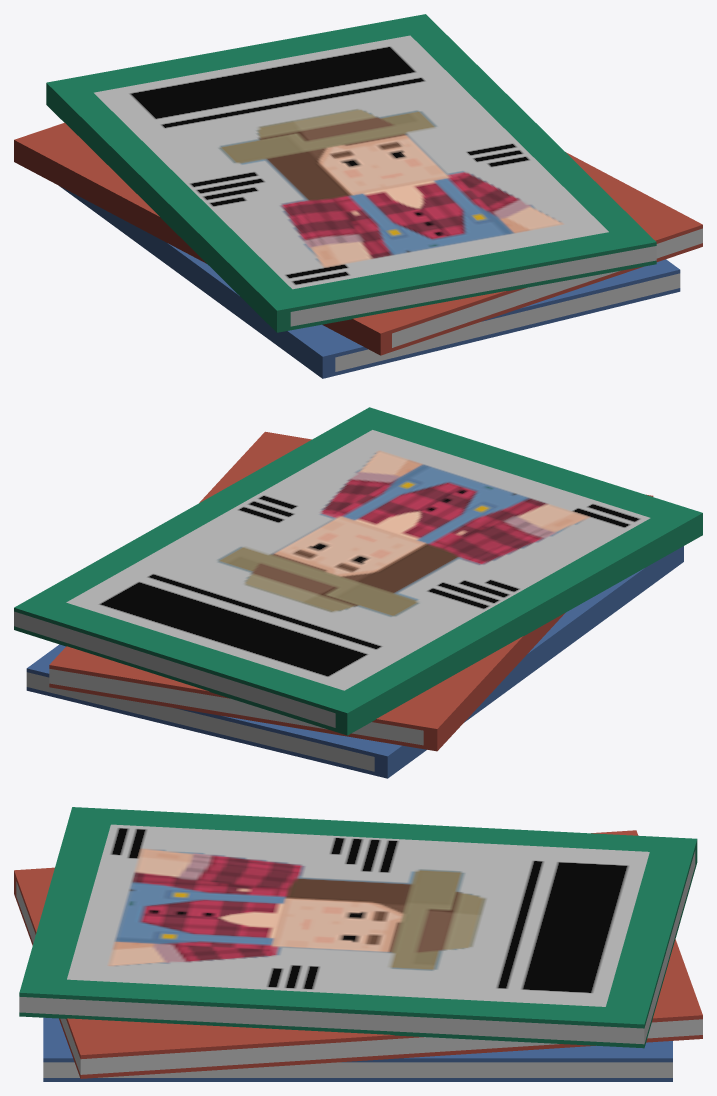
The model's file is SO_Magazines.fbx.
3 views of the same model, one above another, from view 1: azimuth 30°, elevation 25°; view 2: azimuth 150°, elevation 25°; view 3: azimuth 270°, elevation 25° (orthographic). The views are drawn at different scales.
Parts seen in each view (by area): view 1: SO_Magazines; view 2: SO_Magazines; view 3: SO_Magazines.
Boxes of the visible parts, box(x1,y1,x2,y2) form: SO_Magazines: box(14, 14, 702, 378); SO_Magazines: box(14, 407, 702, 778); SO_Magazines: box(14, 807, 702, 1081).
Bounding box in the file's own units: 0.4516 × 0.0664 × 0.5844.
